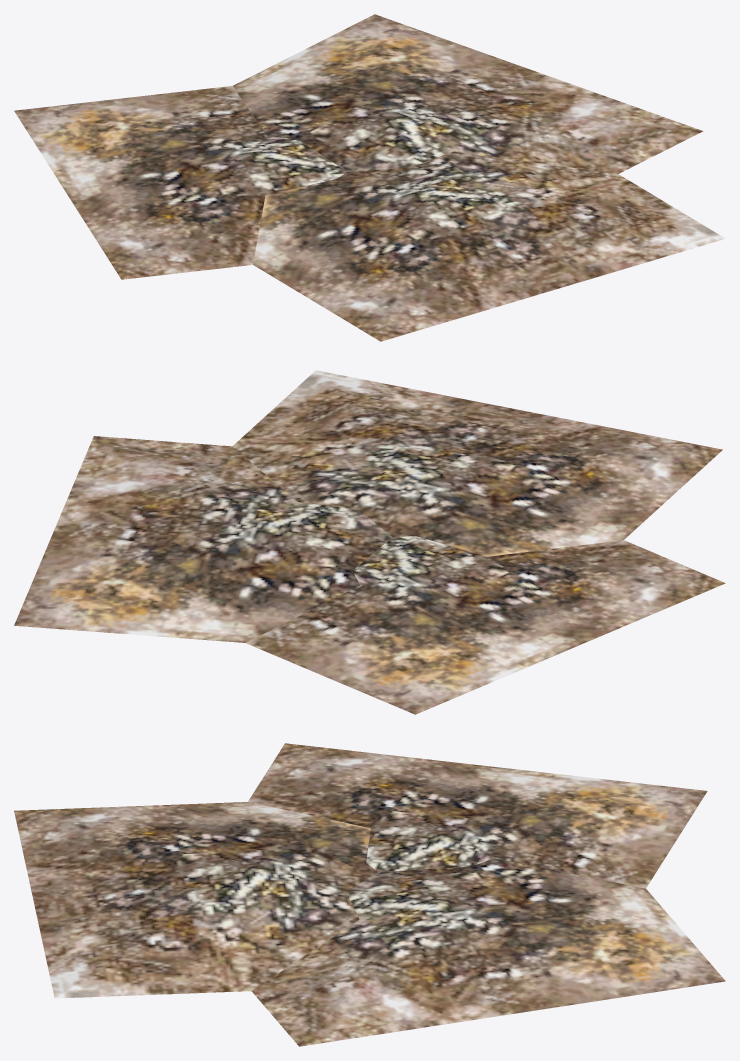
The model's file is building_g_rubble4x4.glb.
3 renders of one model, top to bottom at view 1: azimuth 30°, elevation 25°; view 2: azimuth 150°, elevation 25°; view 3: azimuth 270°, elevation 25°, orthographic. The views are drawn at different scales.
Parts seen in each view (by area): view 1: MeshRoot; view 2: MeshRoot; view 3: MeshRoot.
Boxes of the visible parts, bbox=[...] form: MeshRoot: bbox=[14, 14, 725, 341]; MeshRoot: bbox=[14, 370, 725, 714]; MeshRoot: bbox=[14, 743, 725, 1046].
Size of the model in its own units: 11.03 by 0.3958 by 10.94.
Materials: 1 (1 with a texture image).
